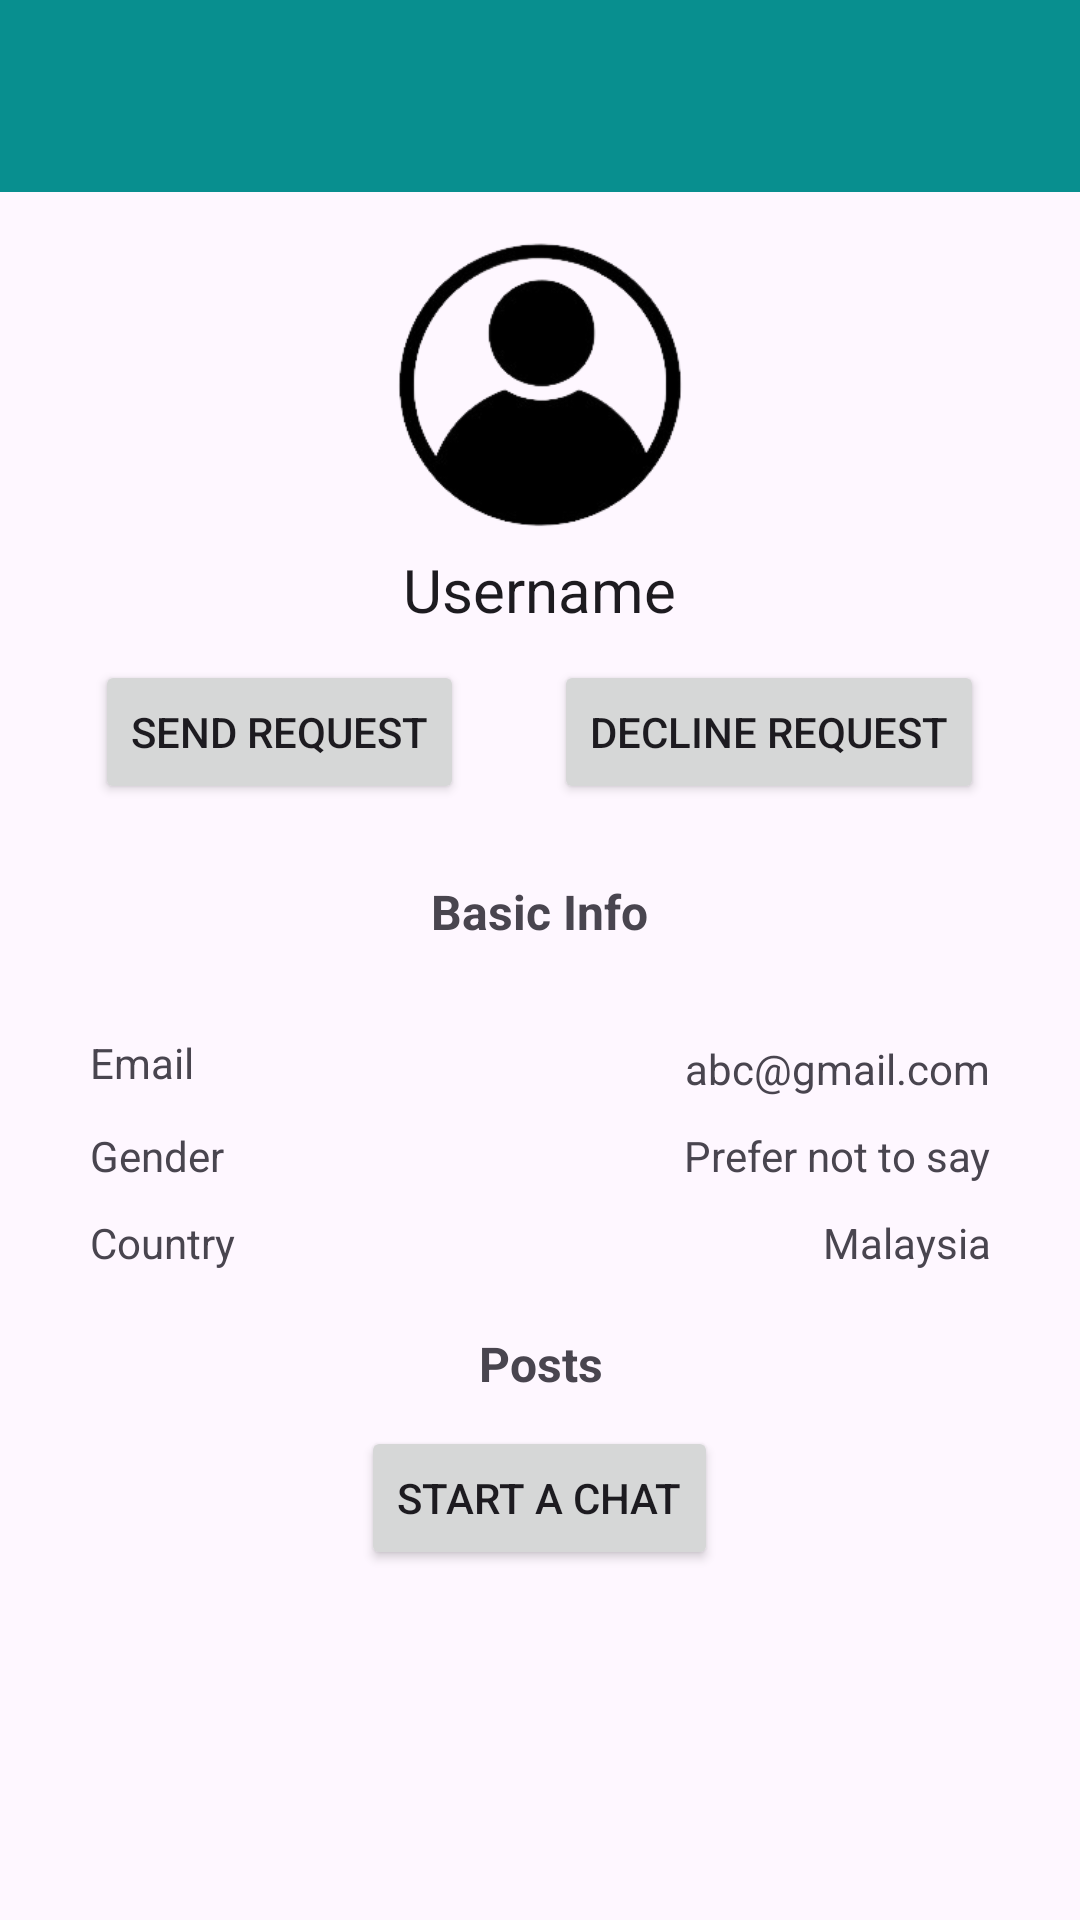

Point at icon controls on the screen. Image size 1080px x 1920px, points as point (x, y).
profile: point (540, 384)
